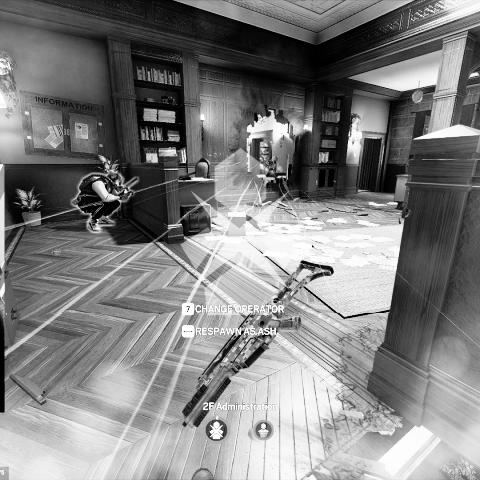Character: (72, 162, 134, 234), (264, 156, 280, 188)
Head: (105, 170, 124, 187), (272, 156, 278, 163)
